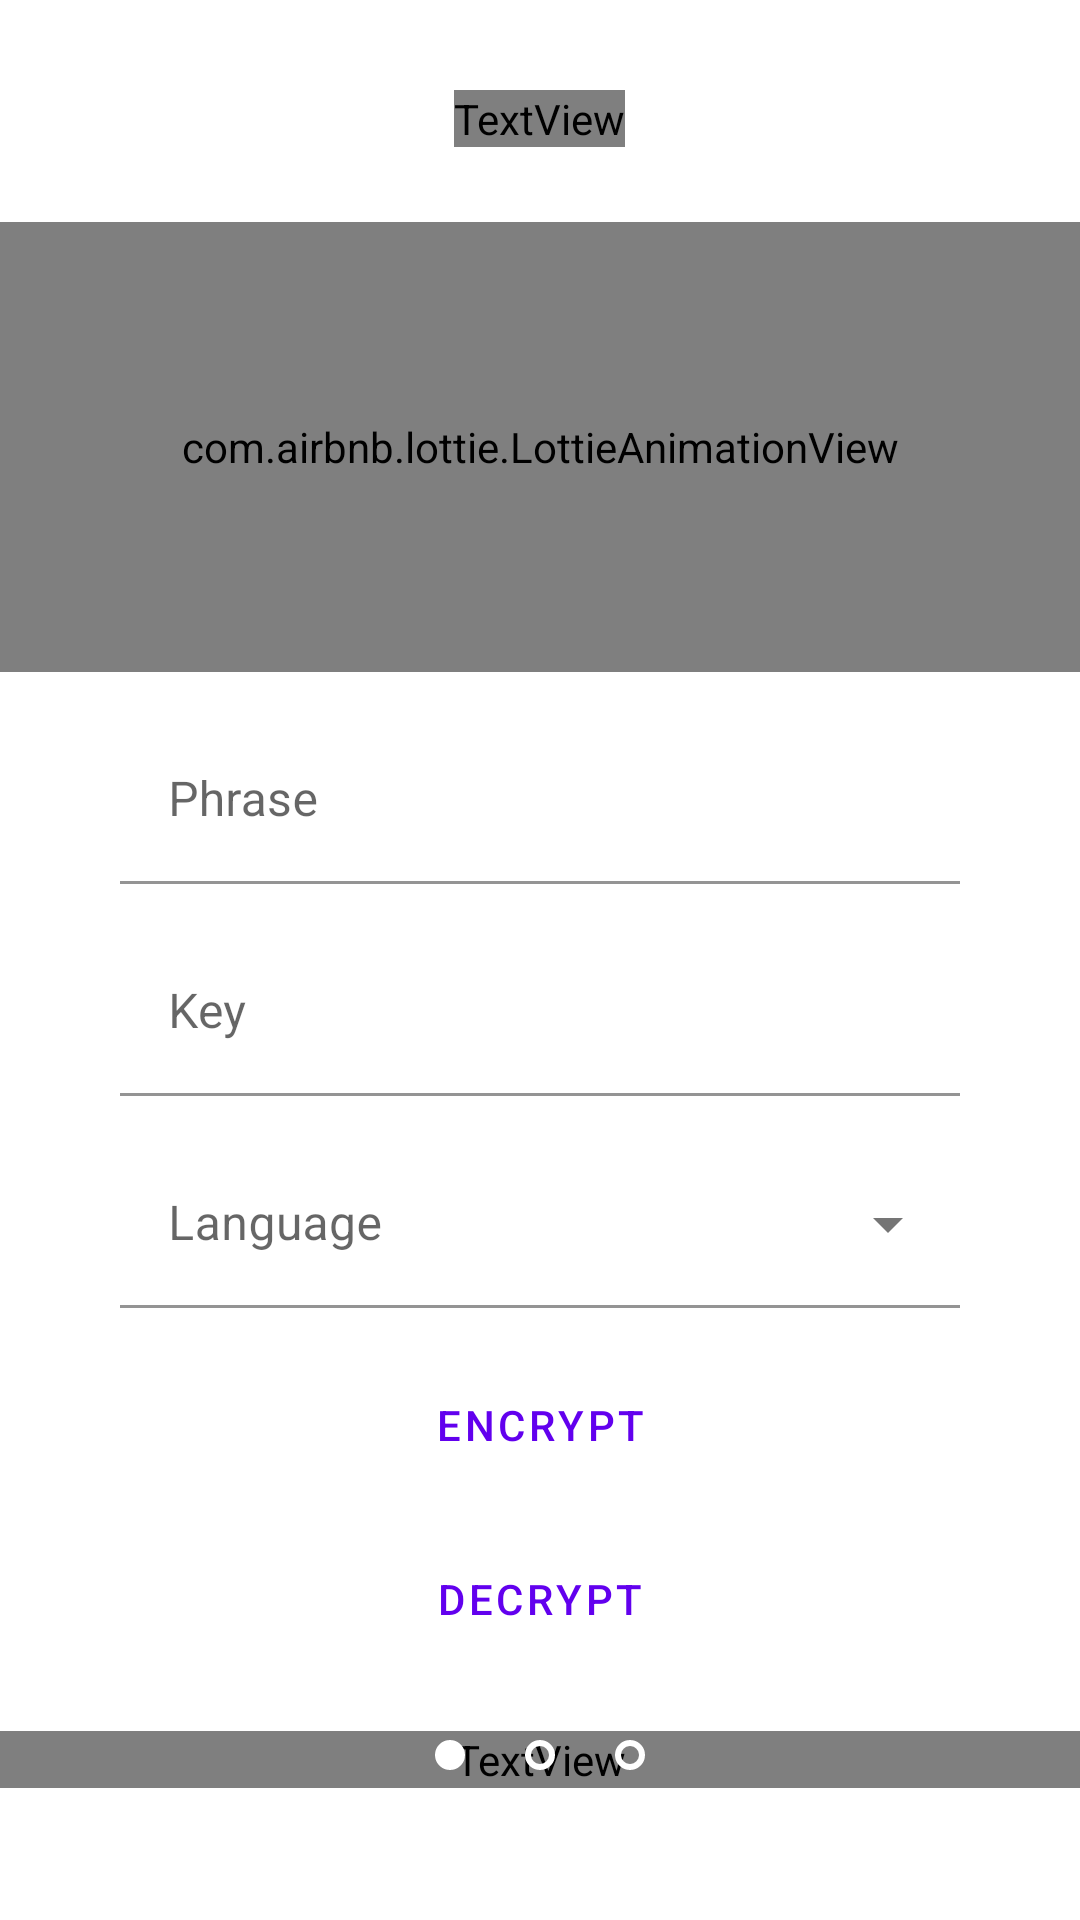

Point at icon controls on the screen. Image size 1080 x 1920, points as [x,y].
circle: [450,1755]
circle empty: [540,1755], [630,1755]
